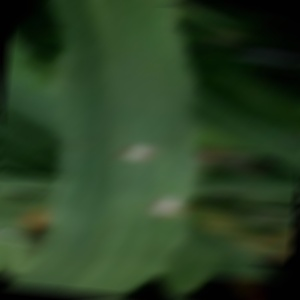Brown_Spot: (140, 193, 200, 235), (113, 128, 162, 170)
